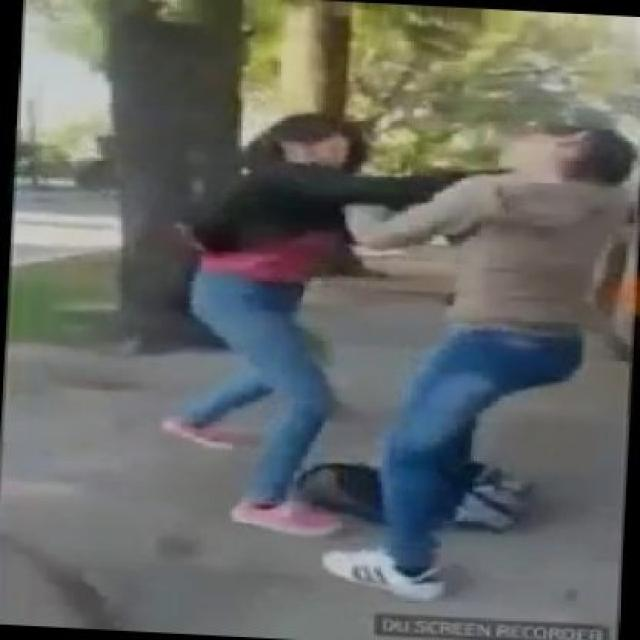fight: (138, 92, 630, 608)
